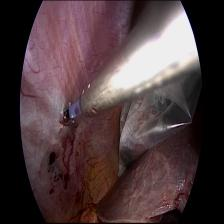Bipolar: (60, 76, 98, 135)
Specimen Bag: (114, 73, 204, 186)
